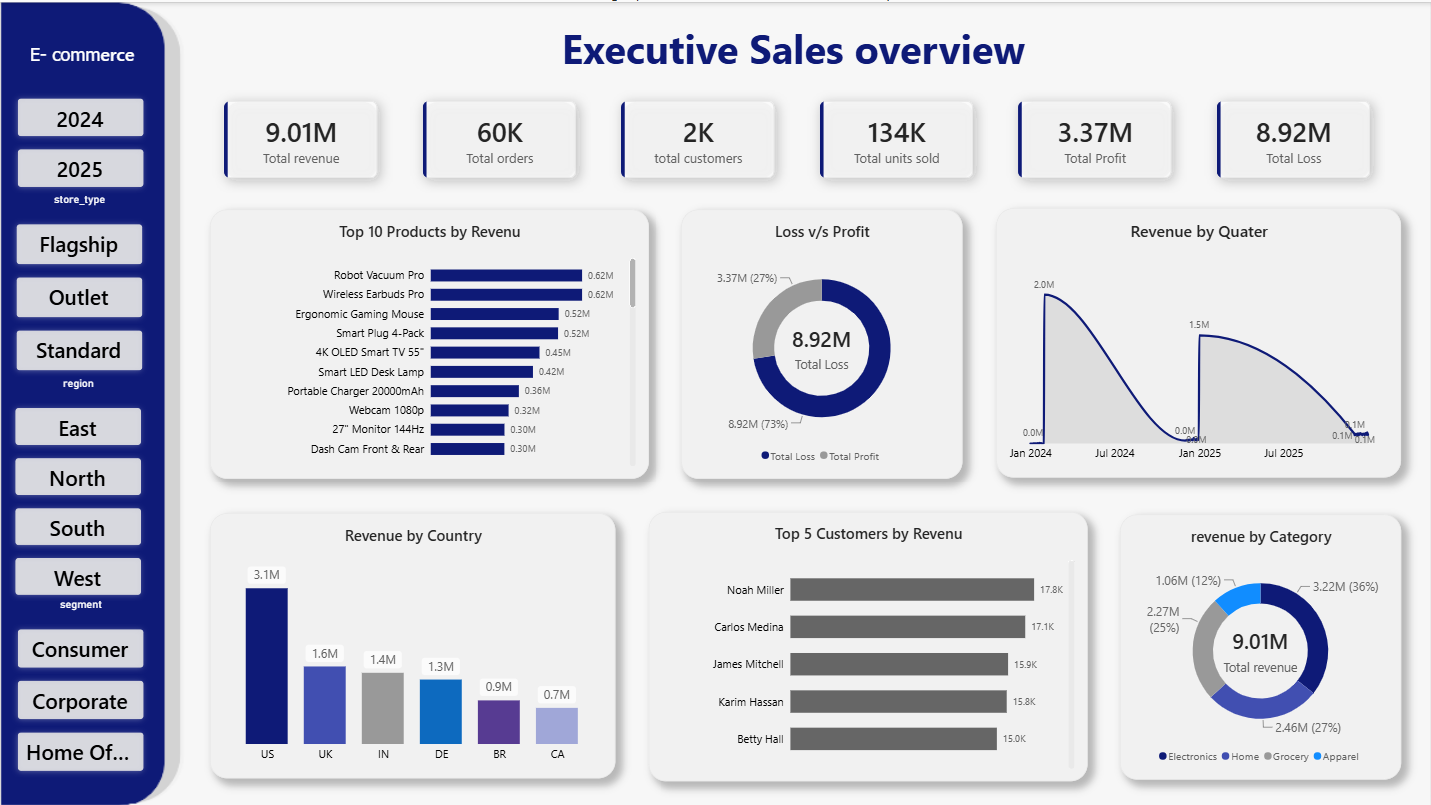

The page's visual inventory and layout, read from the dashboard file:
{"tool":"powerbi","page":{"name":"Page 3","canvas":[1920,1080],"ordinal":0},"visuals":[{"type":"cardVisual","fields":{"Data":["e_commerce customers.Total revenue","e_commerce customers.Total orders","e_commerce customers.total customers","e_commerce customers.Total quantity sold","e_commerce customers.Total Profit","e_commerce customers.Total Loss"]},"box":[280,111.7,1582,144.8],"z":0},{"type":"barChart","title":"Top 10 Products by Revenu ","fields":{"Category":["e_commerce products.product_name"],"Y":["e_commerce customers.Total revenue"]},"box":[280.8,277.3,587.8,361],"z":1000},{"type":"lineClusteredColumnComboChart","title":"Revenue by Country","fields":{"Y":["e_commerce customers.Total revenue"],"Category":["e_commerce customers.country"]},"box":[280.8,685.5,543.3,355],"z":2000},{"type":"donutChart","title":"revenue by Category","fields":{"Category":["e_commerce products.category"],"Y":["e_commerce customers.Total revenue"]},"box":[1500,686.7,376.7,355],"z":3000},{"type":"advancedSlicerVisual","fields":{"Values":["e_commerce sales.sale_date.Variation.Date Hierarchy.Year"]},"box":[15.7,120.3,186.6,136],"z":4000},{"type":"donutChart","title":"Loss v/s  Profit","fields":{"Y":["e_commerce customers.Total Loss","e_commerce customers.Total Profit"]},"box":[912.2,277.3,376.7,361],"z":5000},{"type":"lineChart","title":"Revenue by Quater","fields":{"Y":["e_commerce customers.Total revenue"],"Category":["e_commerce sales.sale_date.Variation.Date Hierarchy.Year","e_commerce sales.sale_date.Variation.Date Hierarchy.Month","e_commerce sales.sale_date.Variation.Date Hierarchy.Day"]},"box":[1335,276.7,542.4,361],"z":6000},{"type":"advancedSlicerVisual","fields":{"Values":["e_commerce store.region"]},"box":[12.2,502.3,186.6,303.5],"z":7000},{"type":"advancedSlicerVisual","fields":{"Values":["e_commerce store.store_type"]},"box":[14,256.4,186.6,245.9],"z":8000},{"type":"textbox","box":[280,25,1566.7,86.7],"z":9000},{"type":"textbox","box":[13.3,53.3,186.7,43.3],"z":10000},{"type":"barChart","title":"Top 5 Customers by Revenu ","fields":{"Y":["e_commerce customers.Total revenue"],"Category":["e_commerce customers.customer_name"]},"box":[868.6,683.7,587.8,361],"z":11000},{"type":"advancedSlicerVisual","fields":{"Values":["e_commerce customers.segment"]},"box":[15.7,798.8,186.6,242.4],"z":12000}]}

Visuals, with their boxes in screenshot pixels (x1, y1, x2, y2), scaled from the page's 1920x1080 canvas onto the 1431x805 screenshot:
cardVisual - e_commerce customers.Total revenue x e_commerce customers.Total orders: BBox(209, 83, 1388, 191)
"Top 10 Products by Revenu " barChart: BBox(209, 207, 647, 476)
"Revenue by Country" lineClusteredColumnComboChart: BBox(209, 511, 614, 776)
"revenue by Category" donutChart: BBox(1118, 512, 1399, 776)
advancedSlicerVisual - e_commerce sales.sale_date.Variation.Date Hierarchy.Year: BBox(12, 90, 151, 191)
"Loss v/s  Profit" donutChart: BBox(680, 207, 961, 476)
"Revenue by Quater" lineChart: BBox(995, 206, 1399, 475)
advancedSlicerVisual - e_commerce store.region: BBox(9, 374, 148, 601)
advancedSlicerVisual - e_commerce store.store_type: BBox(10, 191, 150, 374)
textbox: BBox(209, 19, 1376, 83)
textbox: BBox(10, 40, 149, 72)
"Top 5 Customers by Revenu " barChart: BBox(647, 510, 1085, 779)
advancedSlicerVisual - e_commerce customers.segment: BBox(12, 595, 151, 776)
